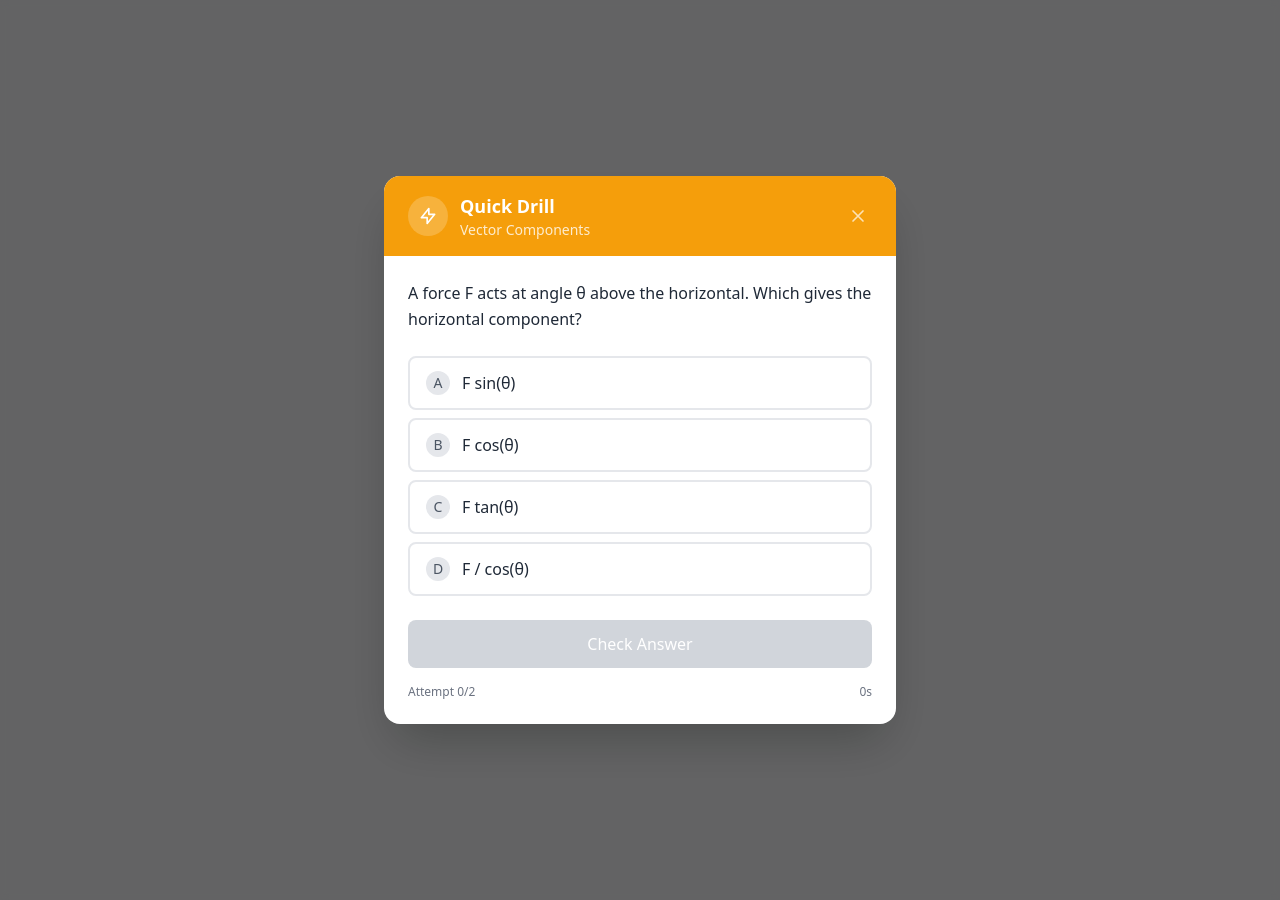
Scenario: DrillModal › Multiple Choice Interaction › shows incorrect feedback when wrong answer is selected
Click the button "A F sin(θ)".
click(489, 383)  # box [408, 356, 872, 410]
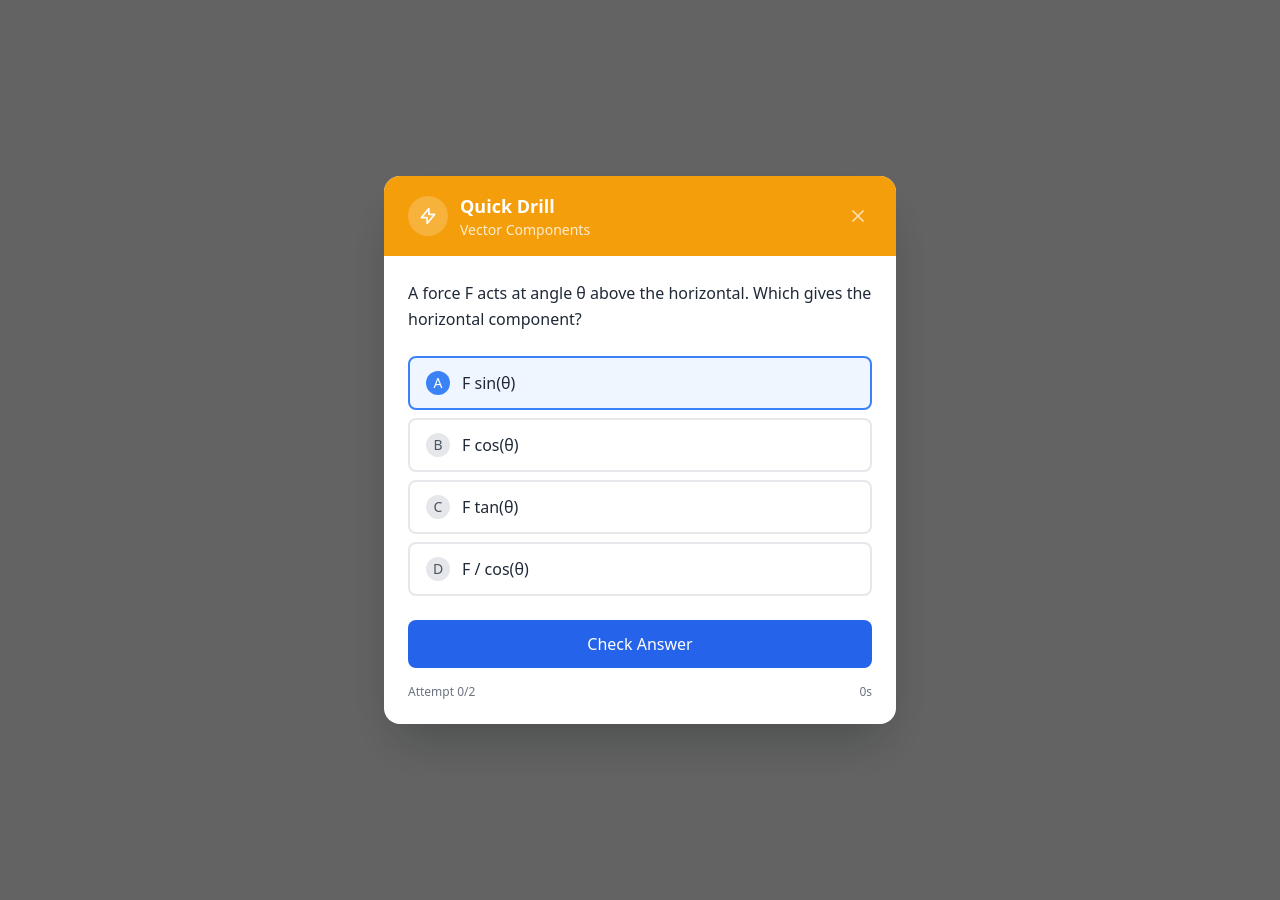
Click the button "Check Answer".
click(640, 644)  # box [408, 620, 872, 668]
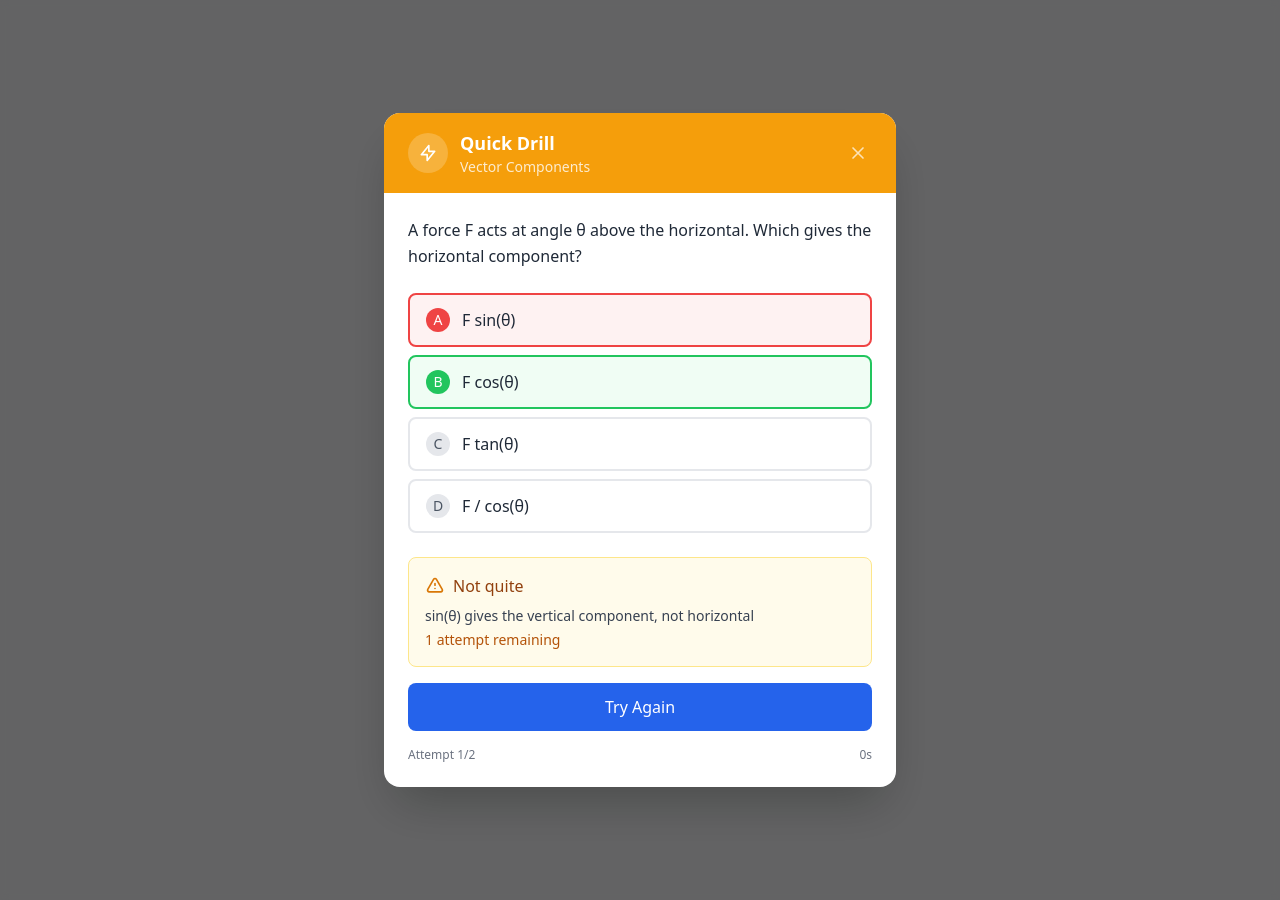
expect the text "Not quite" is shown: met, box [453, 574, 523, 598]
expect the text "sin(θ) gives the vertical component, not horizontal" is shown: met, box [425, 606, 754, 625]
